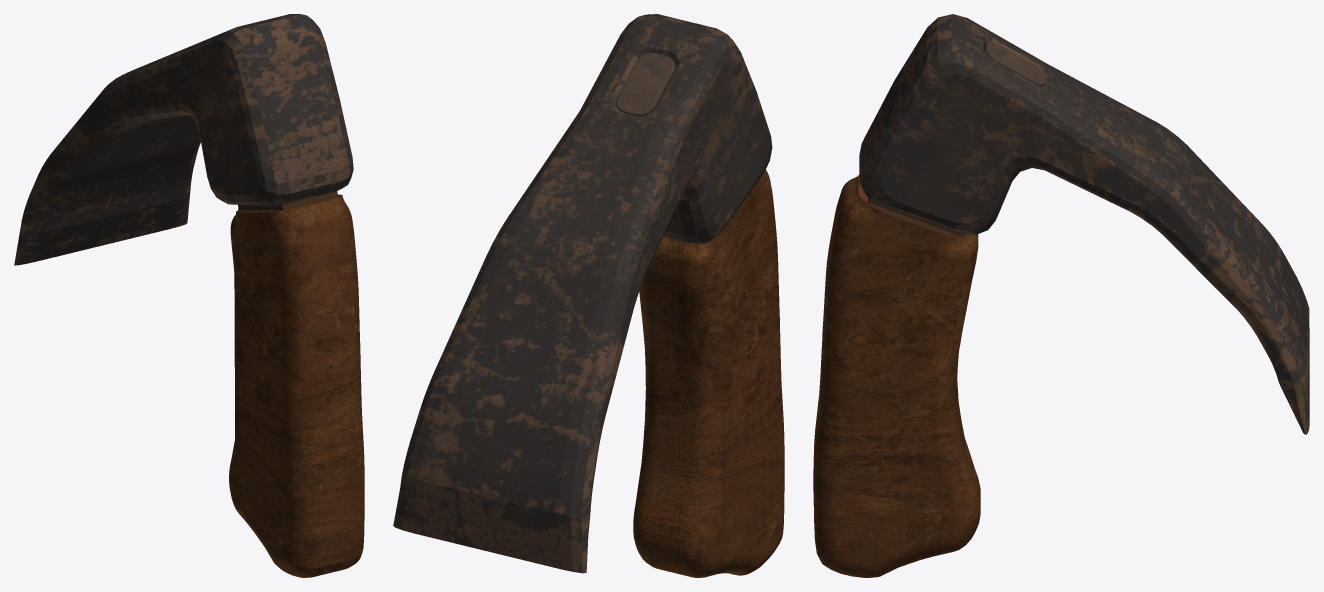
File: Kuokka.fbx
3 renders of one model, left to right at view 1: azimuth 30°, elevation 25°; view 2: azimuth 150°, elevation 25°; view 3: azimuth 270°, elevation 25°, orthographic. The views are drawn at different scales.
Parts seen in each view (by area): view 1: Cube.001; view 2: Cube.001; view 3: Cube.001.
Part boxes in pixels (x1,y1,x2,y2): Cube.001: (14,14,364,577); Cube.001: (393,14,784,577); Cube.001: (813,14,1309,577).
Size of the model in its own units: 441 by 1257 by 1051.
Materials: 4 (3 with a texture image).
